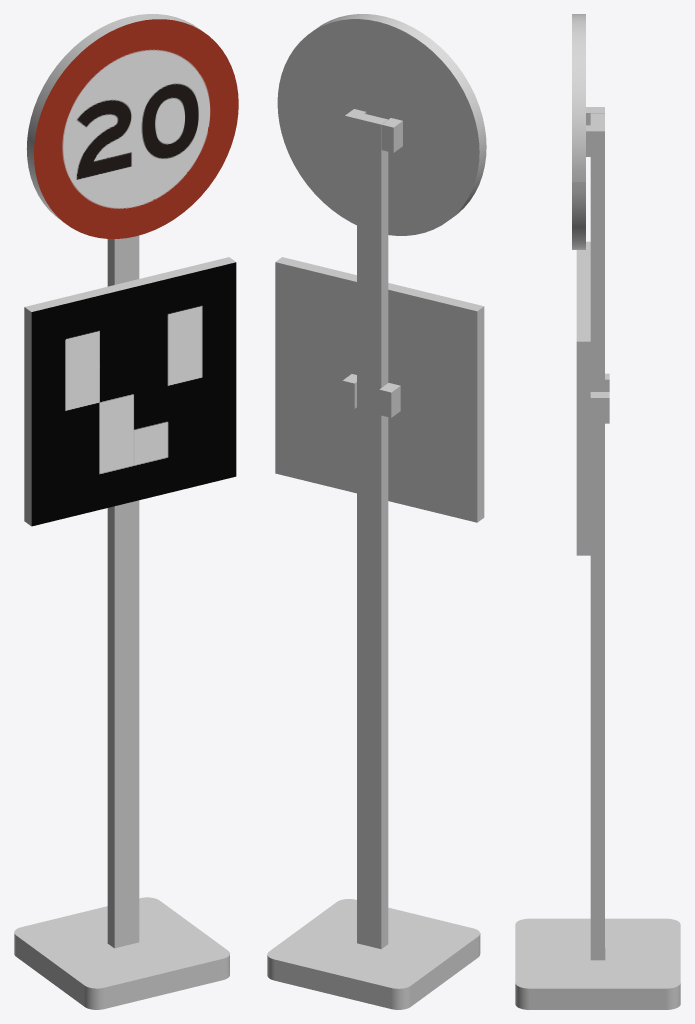
Rendered from velo20_aruco.dae.
The picture shows the model from 3 angles, left to right: view 1: azimuth 30°, elevation 25°; view 2: azimuth 150°, elevation 25°; view 3: azimuth 270°, elevation 25°; orthographic projection.
Visible parts, largest first — view 1: c9006791-c357-40af-b024-1645914f6f11, f46e62c2-a5c5-4e9a-8d71-9d06c2c9a363, bfd09e41-ed9e-42e1-a09c-85e8c682e185, f5c93c3f-d9a6-4b4a-a9ac-b47c43d138f1, aeeba1ff-2c5e-4c41-8cb8-16f7a3acc83c, a35afefc-8849-45c4-b9a1-673353848cf0, a2338bc2-373c-4fe7-a799-41f86ecc71a9; view 2: caa7d82b-ec62-4de9-84e2-bbf325f270ca, a29e17ba-7157-4ea7-a8b3-ed811b759a98, bfd09e41-ed9e-42e1-a09c-85e8c682e185, f5c93c3f-d9a6-4b4a-a9ac-b47c43d138f1, aeeba1ff-2c5e-4c41-8cb8-16f7a3acc83c, a35afefc-8849-45c4-b9a1-673353848cf0, a2338bc2-373c-4fe7-a799-41f86ecc71a9, a7b4766c-d731-4f81-8bf7-723238e44a89, a2e31d09-bdff-4af3-9afe-add2e16556c5; view 3: f5c93c3f-d9a6-4b4a-a9ac-b47c43d138f1, bfd09e41-ed9e-42e1-a09c-85e8c682e185, aeeba1ff-2c5e-4c41-8cb8-16f7a3acc83c, a27dc3be-d8eb-48ca-b47b-2def07cd66f9, a2338bc2-373c-4fe7-a799-41f86ecc71a9, b94cfadd-0313-4787-86ef-4828bc021f6d, fe1963f2-e5d9-480f-ab21-8e972c7cd268.
Part boxes in pixels (left/top/right/bottom): c9006791-c357-40af-b024-1645914f6f11: left=31, top=262, right=236, bottom=526; f46e62c2-a5c5-4e9a-8d71-9d06c2c9a363: left=34, top=19, right=238, bottom=238; bfd09e41-ed9e-42e1-a09c-85e8c682e185: left=107, top=235, right=139, bottom=948; f5c93c3f-d9a6-4b4a-a9ac-b47c43d138f1: left=14, top=897, right=229, bottom=1009; aeeba1ff-2c5e-4c41-8cb8-16f7a3acc83c: left=26, top=14, right=227, bottom=221; a35afefc-8849-45c4-b9a1-673353848cf0: left=24, top=307, right=31, bottom=526; a2338bc2-373c-4fe7-a799-41f86ecc71a9: left=25, top=257, right=235, bottom=311; caa7d82b-ec62-4de9-84e2-bbf325f270ca: left=275, top=262, right=477, bottom=522; a29e17ba-7157-4ea7-a8b3-ed811b759a98: left=277, top=19, right=479, bottom=235; bfd09e41-ed9e-42e1-a09c-85e8c682e185: left=357, top=113, right=388, bottom=949; f5c93c3f-d9a6-4b4a-a9ac-b47c43d138f1: left=267, top=899, right=480, bottom=1009; aeeba1ff-2c5e-4c41-8cb8-16f7a3acc83c: left=312, top=14, right=486, bottom=218; a35afefc-8849-45c4-b9a1-673353848cf0: left=477, top=306, right=484, bottom=522; a2338bc2-373c-4fe7-a799-41f86ecc71a9: left=275, top=257, right=483, bottom=311; a7b4766c-d731-4f81-8bf7-723238e44a89: left=379, top=383, right=400, bottom=417; a2e31d09-bdff-4af3-9afe-add2e16556c5: left=381, top=118, right=402, bottom=152; f5c93c3f-d9a6-4b4a-a9ac-b47c43d138f1: left=515, top=918, right=680, bottom=1009; bfd09e41-ed9e-42e1-a09c-85e8c682e185: left=590, top=113, right=604, bottom=960; aeeba1ff-2c5e-4c41-8cb8-16f7a3acc83c: left=572, top=14, right=585, bottom=249; a27dc3be-d8eb-48ca-b47b-2def07cd66f9: left=576, top=341, right=590, bottom=555; a2338bc2-373c-4fe7-a799-41f86ecc71a9: left=576, top=241, right=590, bottom=341; b94cfadd-0313-4787-86ef-4828bc021f6d: left=590, top=392, right=609, bottom=423; fe1963f2-e5d9-480f-ab21-8e972c7cd268: left=586, top=125, right=604, bottom=156.
Bounding box in the file's own units: 0.05 × 0.035 × 0.222.
Materials: 2 (2 with a texture image).
